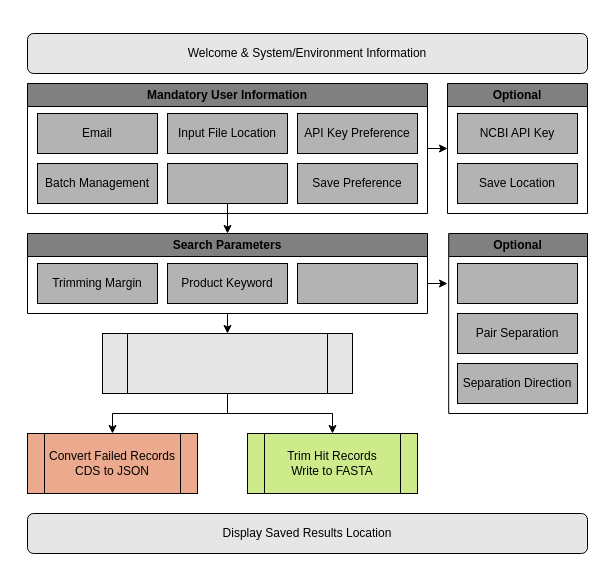
This 614x584 diagram has some shape labels left out. Here are the shapes that lost their labels. From the top down, the centre of each, then its label:
the point at 227,183: Search
the point at 357,283: Product Pairing
the point at 517,283: Product Pairs
the point at 227,363: Locate Protein Record Link Nucleotide Record Search Nucleotide Record
